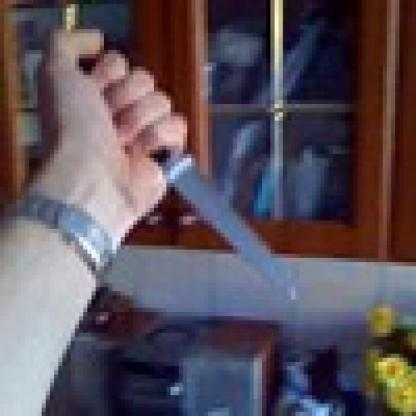Knife: (83, 50, 300, 295)
